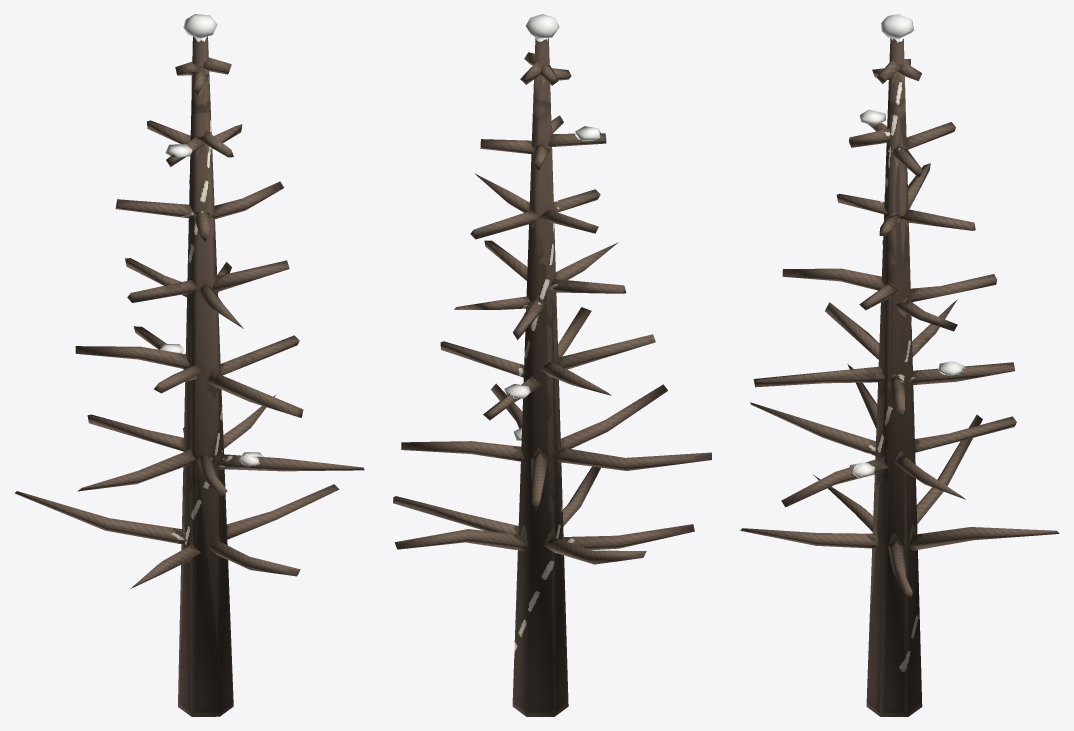
File: tree_bare_kara.glb
3 renders of one model, left to right at view 1: azimuth 30°, elevation 25°; view 2: azimuth 150°, elevation 25°; view 3: azimuth 270°, elevation 25°, orthographic.
Parts seen in each view (by area): view 1: prop_tree_bare_kara_felt; view 2: prop_tree_bare_kara_felt; view 3: prop_tree_bare_kara_felt.
Part boxes in pixels (x1=…): prop_tree_bare_kara_felt: x1=14, y1=14, x2=364, y2=716; prop_tree_bare_kara_felt: x1=393, y1=14, x2=711, y2=716; prop_tree_bare_kara_felt: x1=740, y1=14, x2=1059, y2=716.
Bounding box in the file's own units: 5.12 × 11.7 × 4.92.
1 material, 1 textured.
